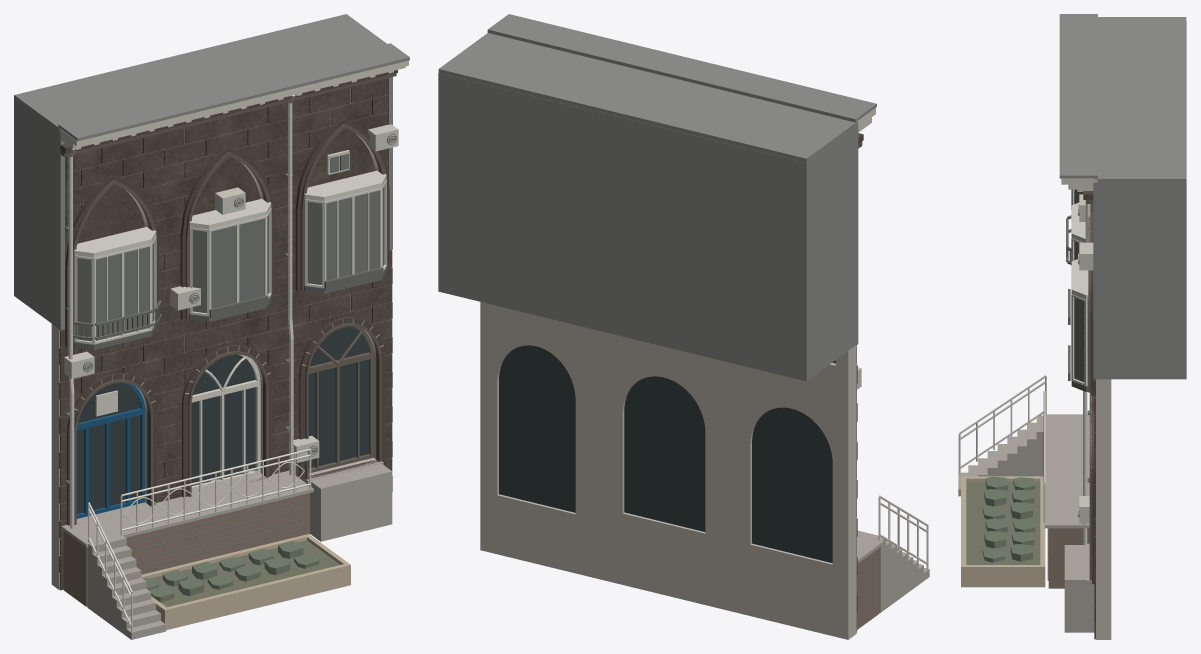
The model's file is huangpu-russell-company-fuzhou-three-bay-front-web.glb.
3 renders of one model, left to right at view 1: azimuth 30°, elevation 25°; view 2: azimuth 150°, elevation 25°; view 3: azimuth 270°, elevation 25°, orthographic. The views are drawn at different scales.
Visible parts, largest first — view 1: 旗昌洋行福州路三开间石墙与尖券窗; view 2: 旗昌洋行福州路三开间石墙与尖券窗; view 3: 旗昌洋行福州路三开间石墙与尖券窗.
Boxes of the visible parts, left/top/right/bottom form: 旗昌洋行福州路三开间石墙与尖券窗: left=14, top=14, right=409, bottom=639; 旗昌洋行福州路三开间石墙与尖券窗: left=438, top=14, right=929, bottom=639; 旗昌洋行福州路三开间石墙与尖券窗: left=958, top=14, right=1186, bottom=639.
Bounding box in the file's own units: 8.41 × 11.25 × 5.01.
Materials: 22 (1 with a texture image).
